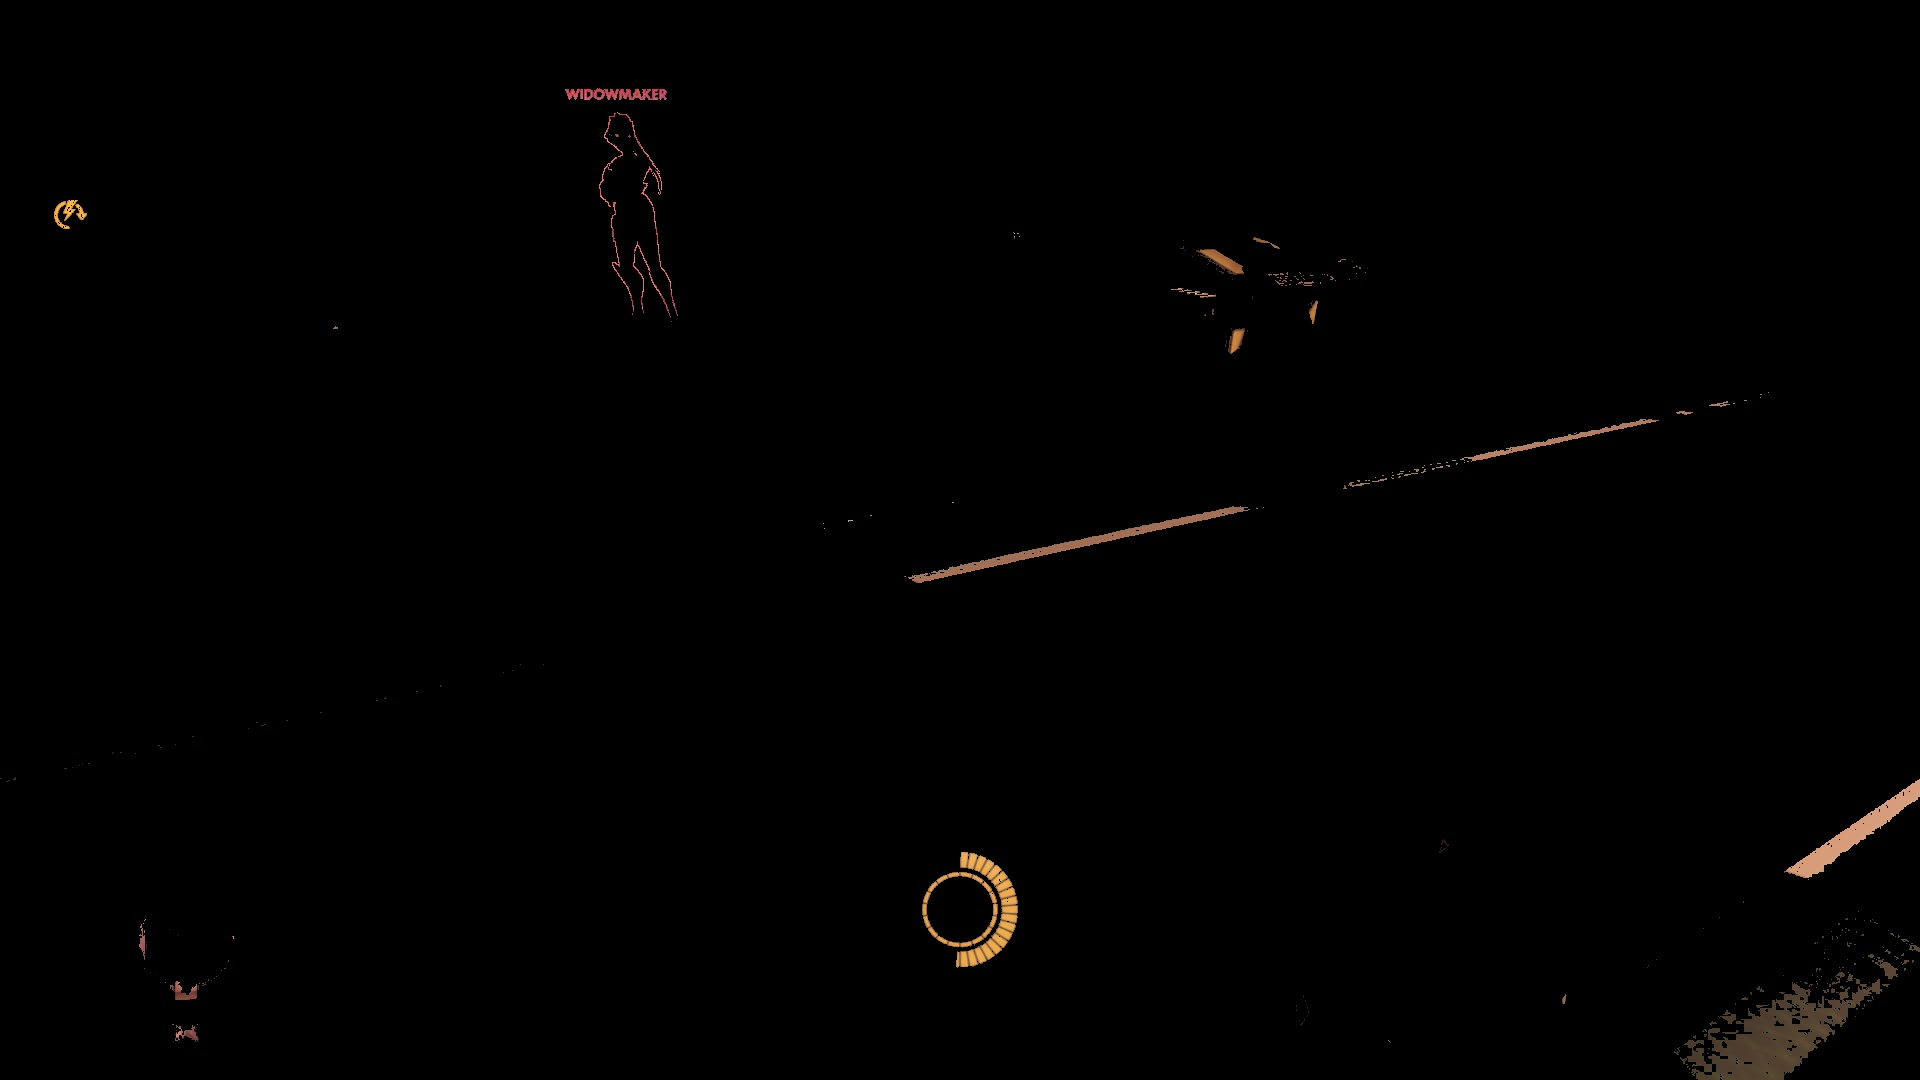widowmaker: (597, 112, 686, 336)
